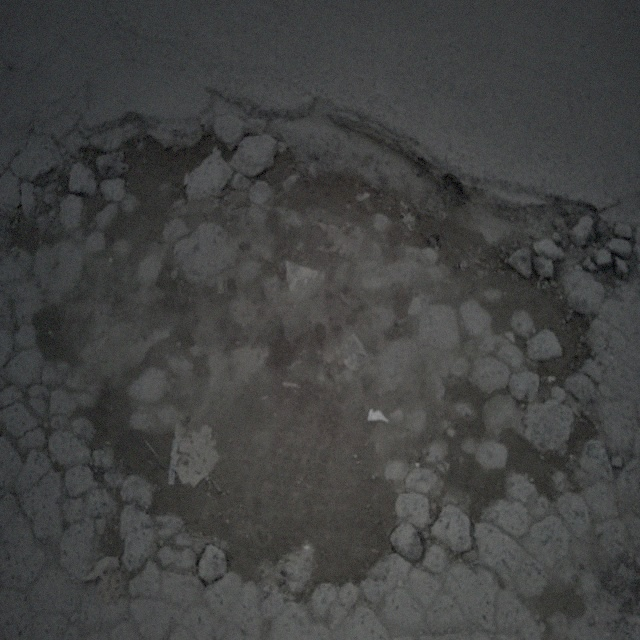pothole: (23, 91, 607, 585)
